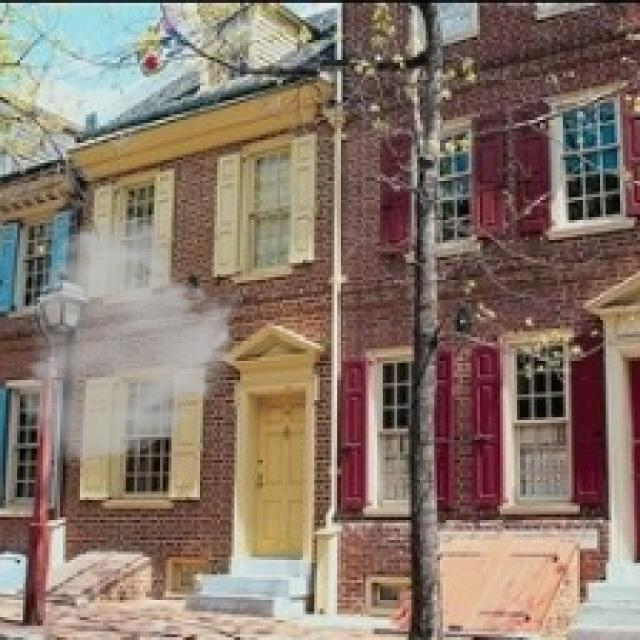Smoke: (17, 212, 246, 468)
